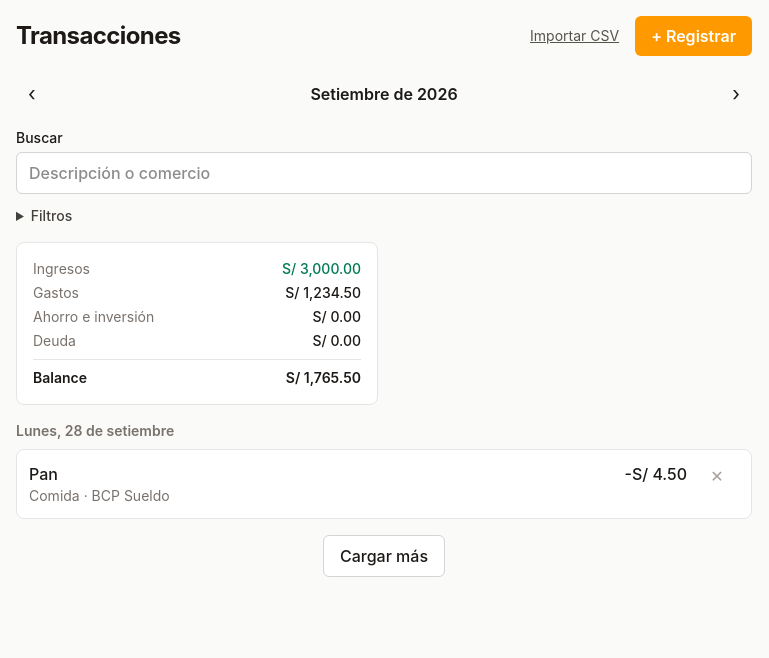
Test: TransactionsScreen › loads the next page with the cursor the API gave
Step 1. Click the button "Cargar más" → (384, 556), box [323,535,445,577]
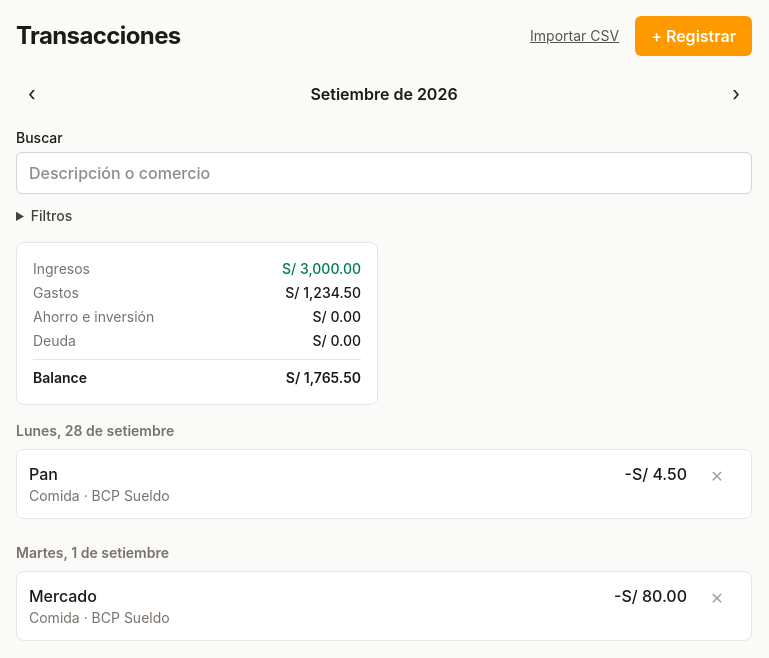
Expected: the text "Pan" is shown, [29,464,58,484]
Expected: the text "Mercado" is shown, [29,586,97,606]
Expected: the button "Cargar más" is gone
